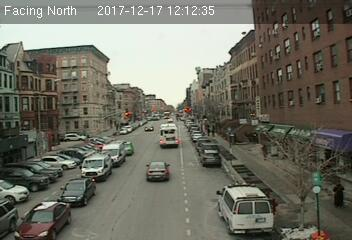bus: (158, 123, 180, 148)
car: (13, 201, 72, 240), (58, 177, 97, 207), (80, 154, 114, 182), (100, 142, 127, 168), (146, 160, 172, 181), (201, 149, 220, 166)
police: (214, 182, 274, 234)
